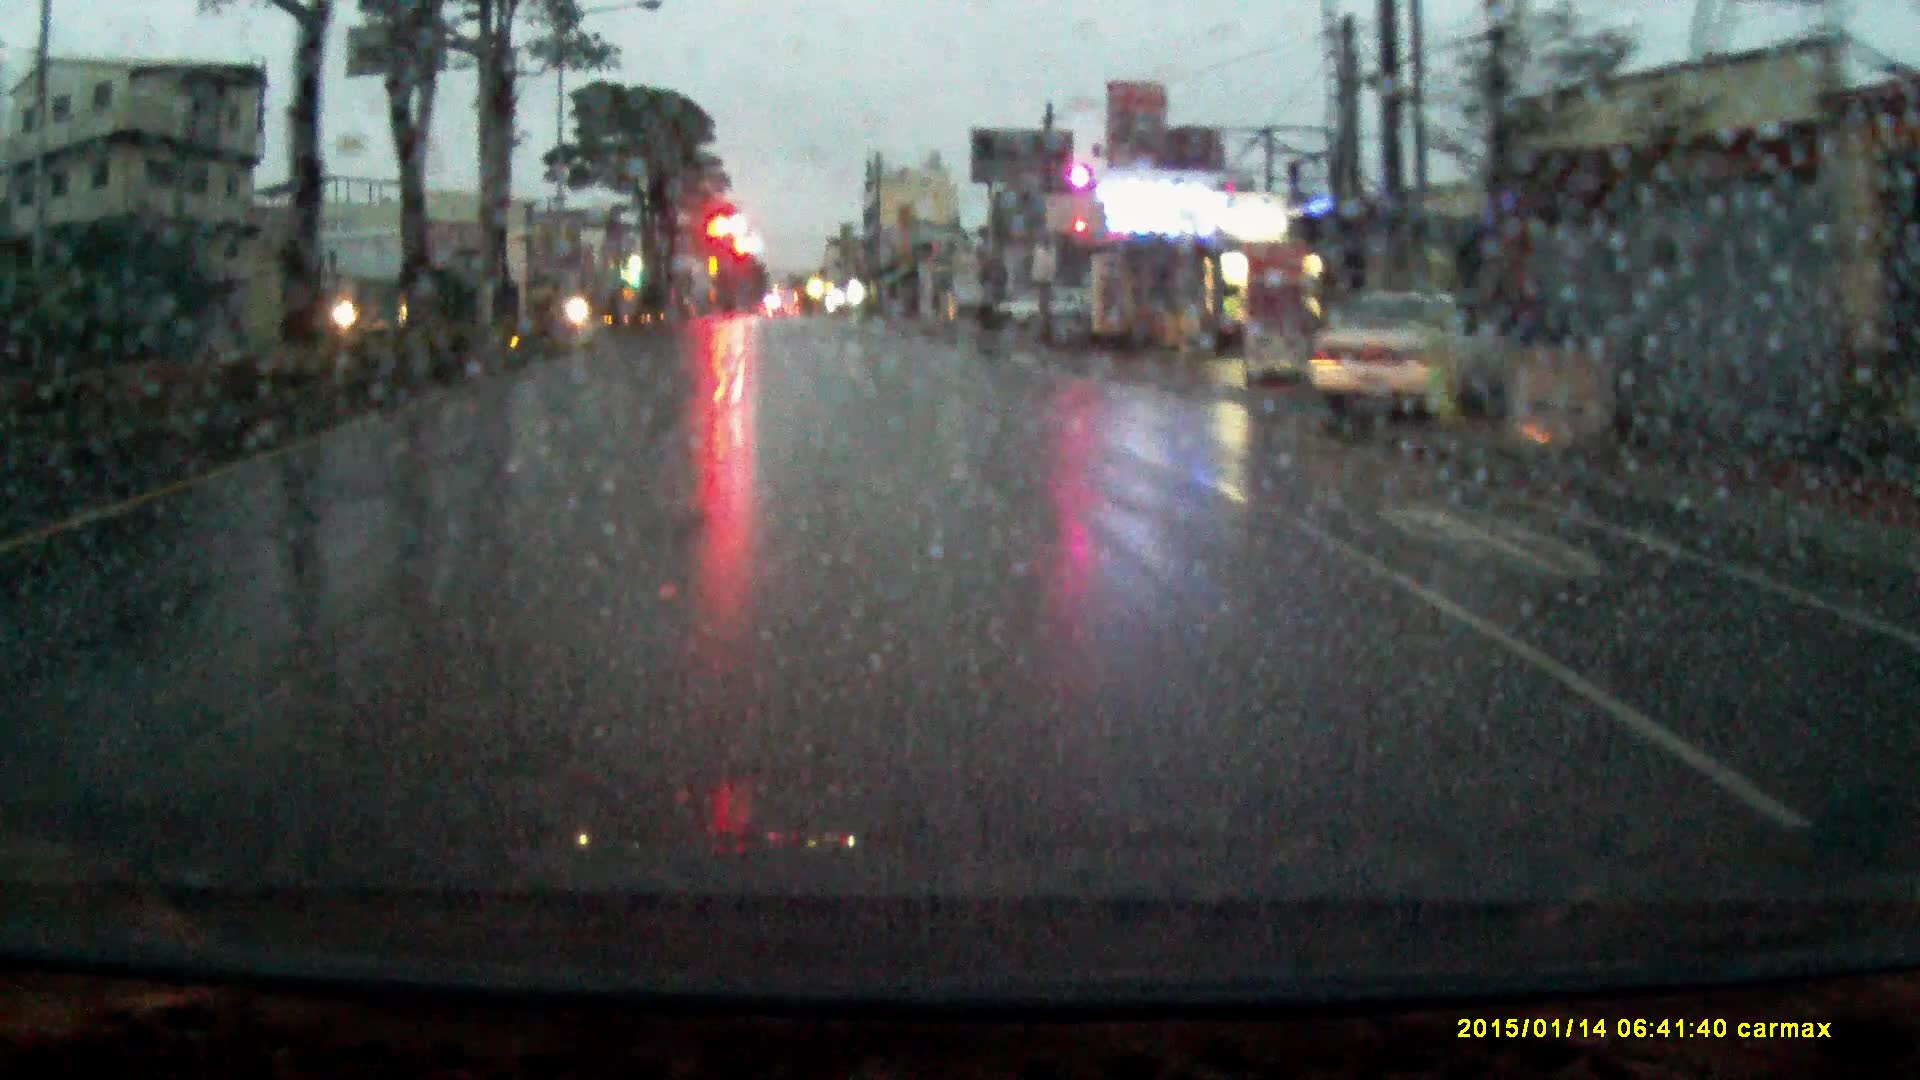vehicle: (1305, 286, 1509, 415), (992, 286, 1079, 328), (555, 291, 600, 324)
